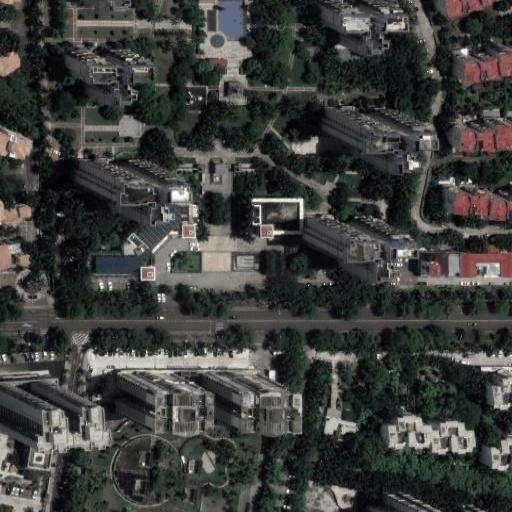building: (87, 199, 198, 277), (385, 407, 476, 455), (343, 110, 420, 161), (305, 209, 375, 259), (65, 41, 138, 87), (70, 154, 144, 195), (202, 374, 266, 420), (117, 374, 176, 418), (452, 42, 512, 81), (249, 199, 305, 234), (434, 253, 512, 278), (0, 375, 40, 420), (440, 185, 512, 210), (294, 480, 349, 512), (360, 486, 421, 512), (452, 121, 512, 144), (0, 131, 34, 162), (486, 368, 512, 405), (488, 422, 512, 462), (323, 417, 356, 440), (184, 88, 208, 111), (0, 43, 15, 72), (227, 83, 243, 96), (327, 408, 343, 421), (214, 162, 228, 174)
